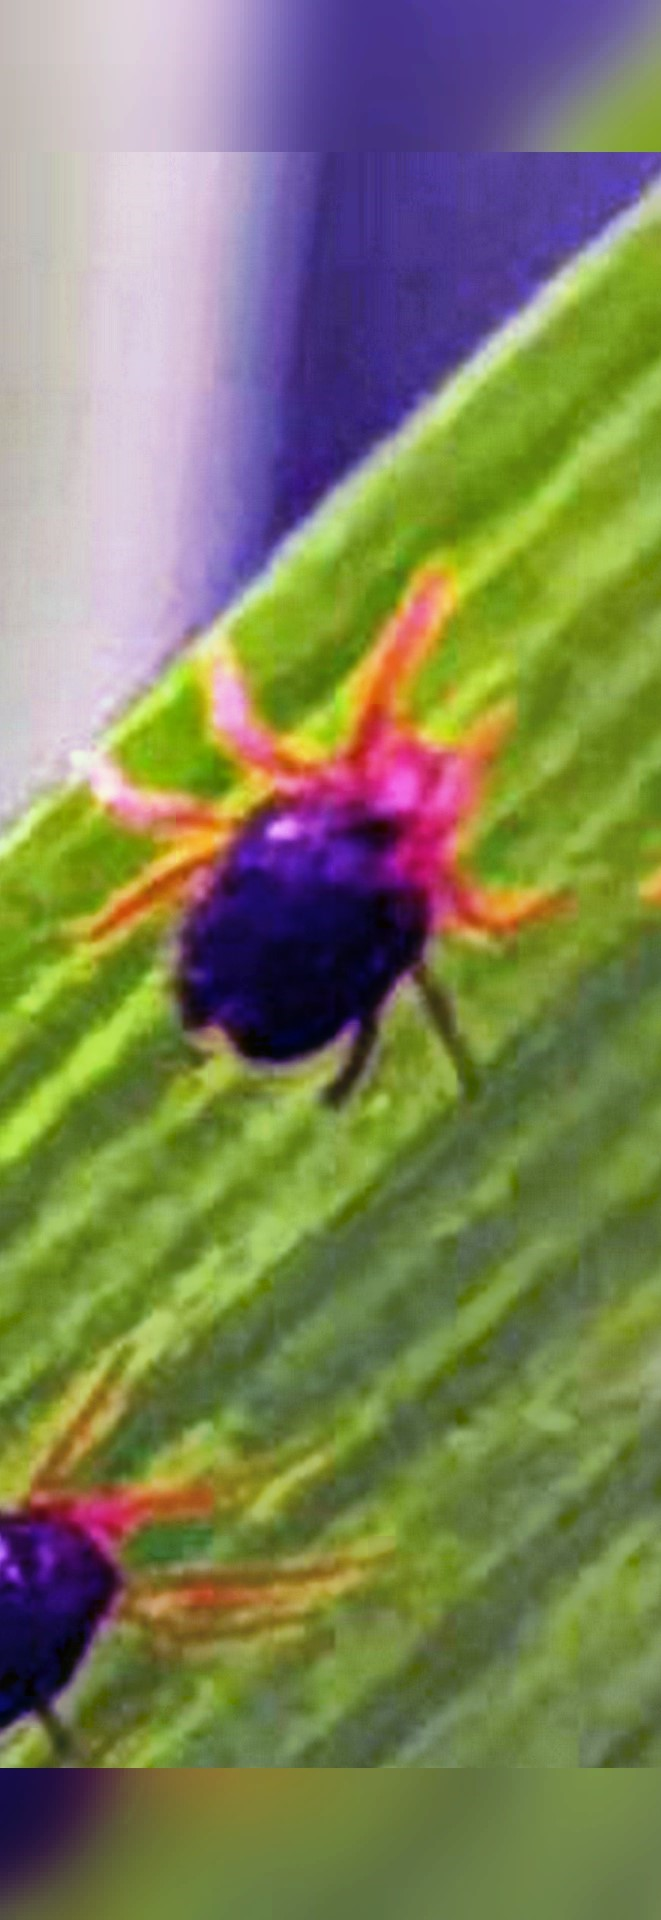Wheat Red Spider: (20, 564, 650, 1258)
